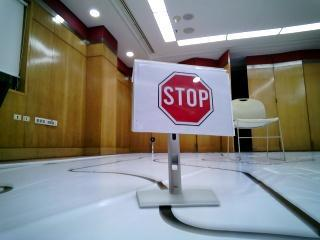stop: (136, 59, 228, 125)
